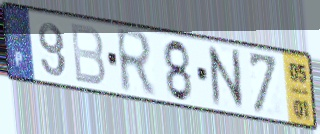7: (247, 49, 280, 117)
8: (161, 36, 194, 105)
9: (36, 21, 67, 78)
B: (68, 21, 108, 89)
N: (205, 44, 248, 111)
R: (113, 26, 158, 100)
